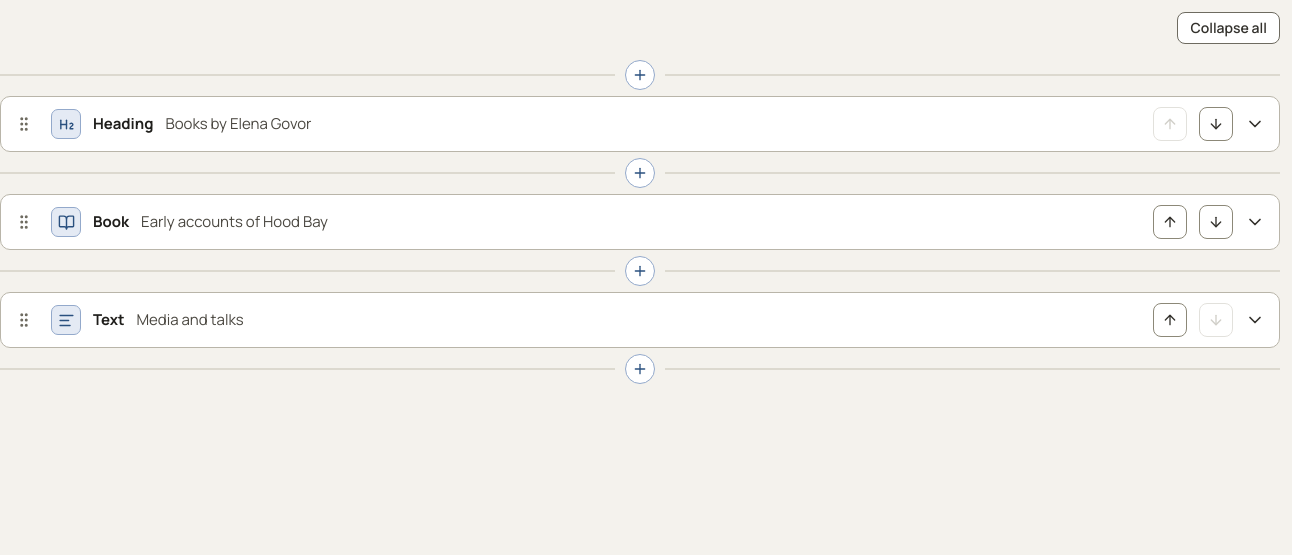
Test: BlocksEditor: accordion › clicking the open header closes it
Click the button "Heading Books by Elena Govor" at [123, 124], box [51, 109, 1141, 139]
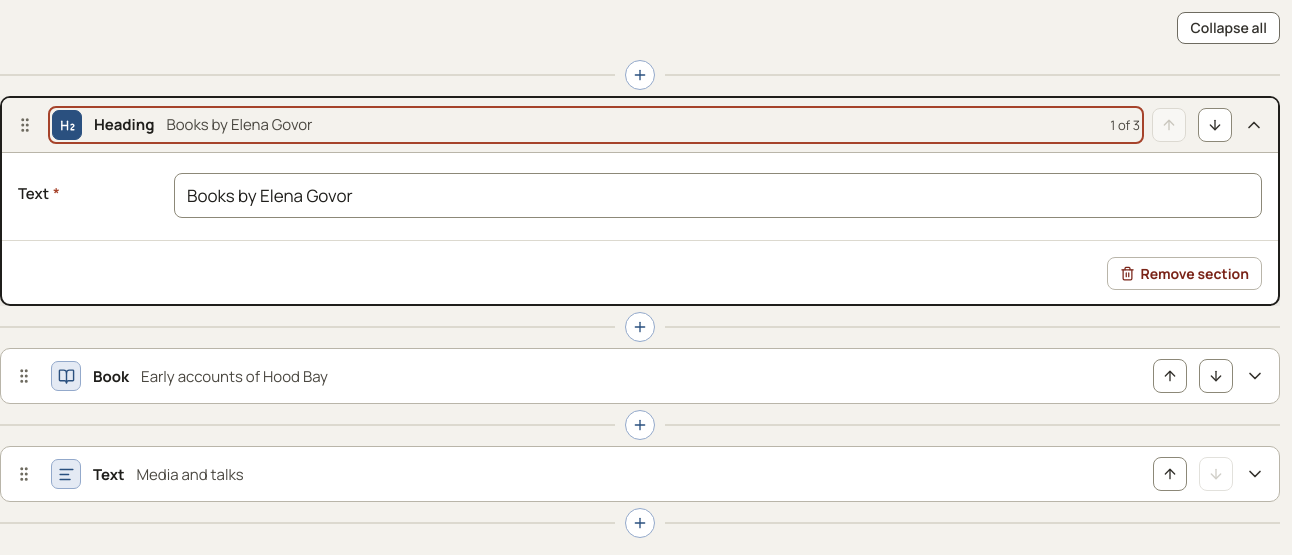
Click the button "Heading Books by Elena Govor 1 of 3" at [124, 125], box [52, 110, 1140, 140]
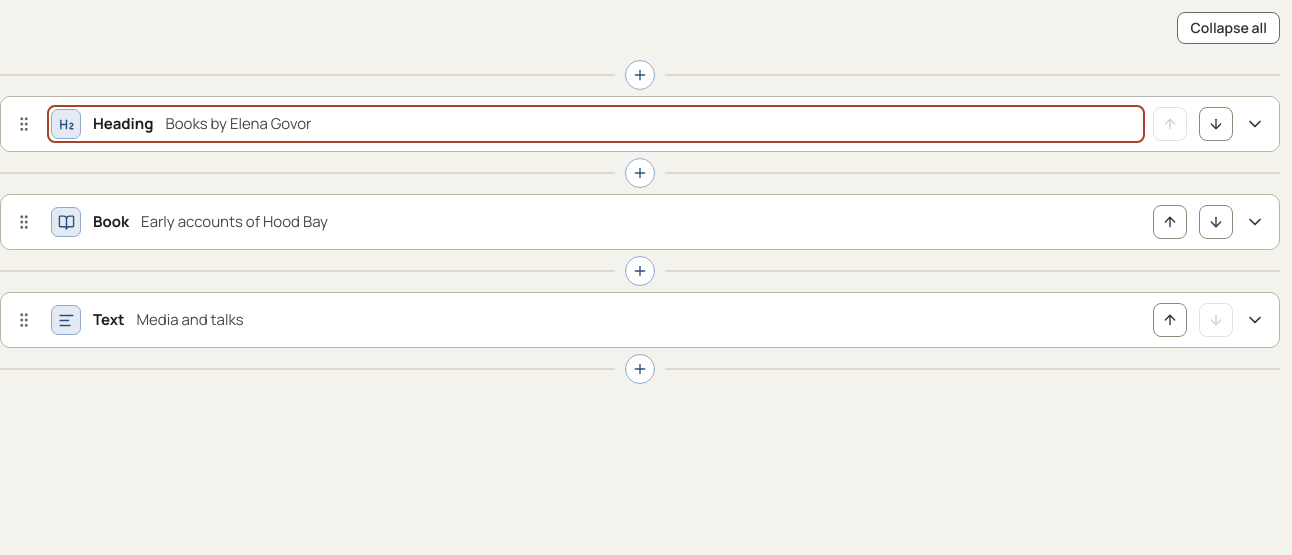
Now the button "Heading Books by Elena Govor" is collapsed, box [51, 109, 1141, 139]
